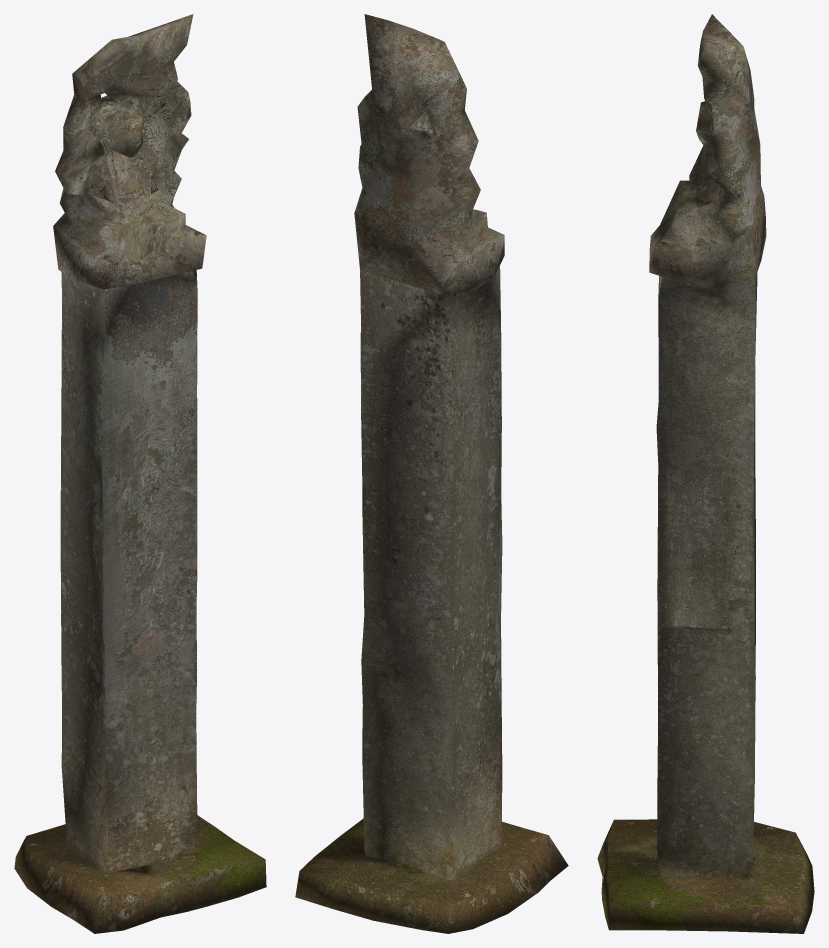
Rendered from column.fbx.
The picture shows the model from 3 angles, left to right: view 1: azimuth 30°, elevation 25°; view 2: azimuth 150°, elevation 25°; view 3: azimuth 270°, elevation 25°; orthographic projection. The views are drawn at different scales.
Parts seen in each view (by area): view 1: колонна; view 2: колонна; view 3: колонна.
Boxes of the visible parts, x1=… form: колонна: x1=14, y1=14, x2=266, y2=933; колонна: x1=295, y1=14, x2=568, y2=933; колонна: x1=597, y1=14, x2=814, y2=933.
Size of the model in its own units: 0.1758 by 0.7837 by 0.1763.
1 material, 1 textured.
